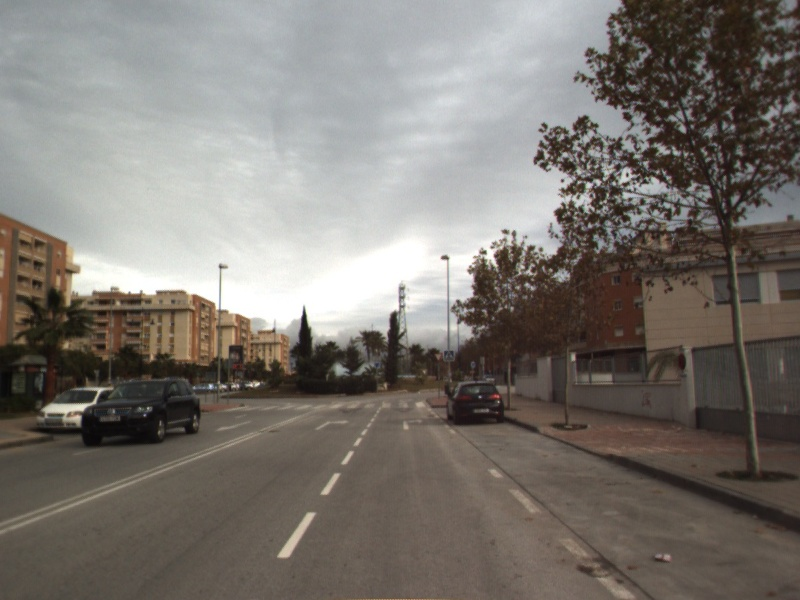RIGHT: (312, 417, 351, 432), (400, 416, 426, 432)
